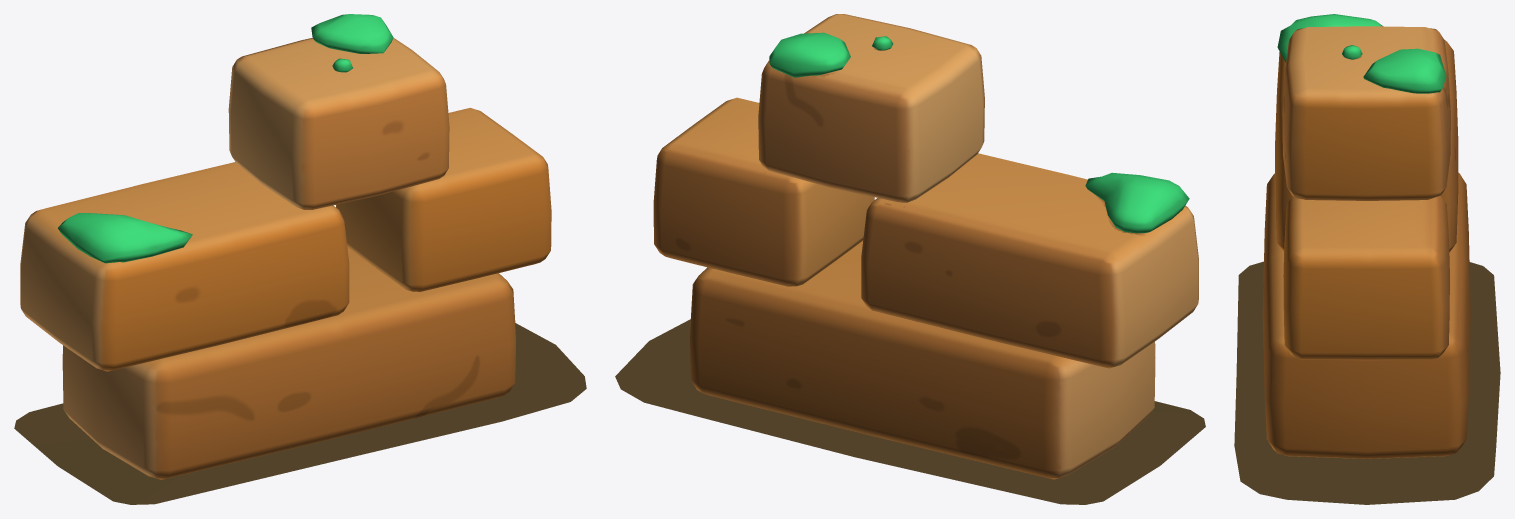
The model's file is E_RockWallA.fbx.
The picture shows the model from 3 angles, left to right: view 1: azimuth 30°, elevation 25°; view 2: azimuth 150°, elevation 25°; view 3: azimuth 270°, elevation 25°; orthographic projection. The views are drawn at different scales.
Parts seen in each view (by area): view 1: E_RockWallA_rock, E_RockWallA_shadow; view 2: E_RockWallA_rock, E_RockWallA_shadow; view 3: E_RockWallA_rock, E_RockWallA_shadow.
Part boxes in pixels (box(x1,y1,x2,y2)): E_RockWallA_rock: box(20, 14, 551, 479); E_RockWallA_shadow: box(14, 323, 586, 504); E_RockWallA_rock: box(653, 14, 1198, 479); E_RockWallA_shadow: box(615, 319, 1205, 504); E_RockWallA_rock: box(1262, 14, 1470, 458); E_RockWallA_shadow: box(1234, 261, 1500, 504).
Size of the model in its own units: 238 by 161 by 108.
